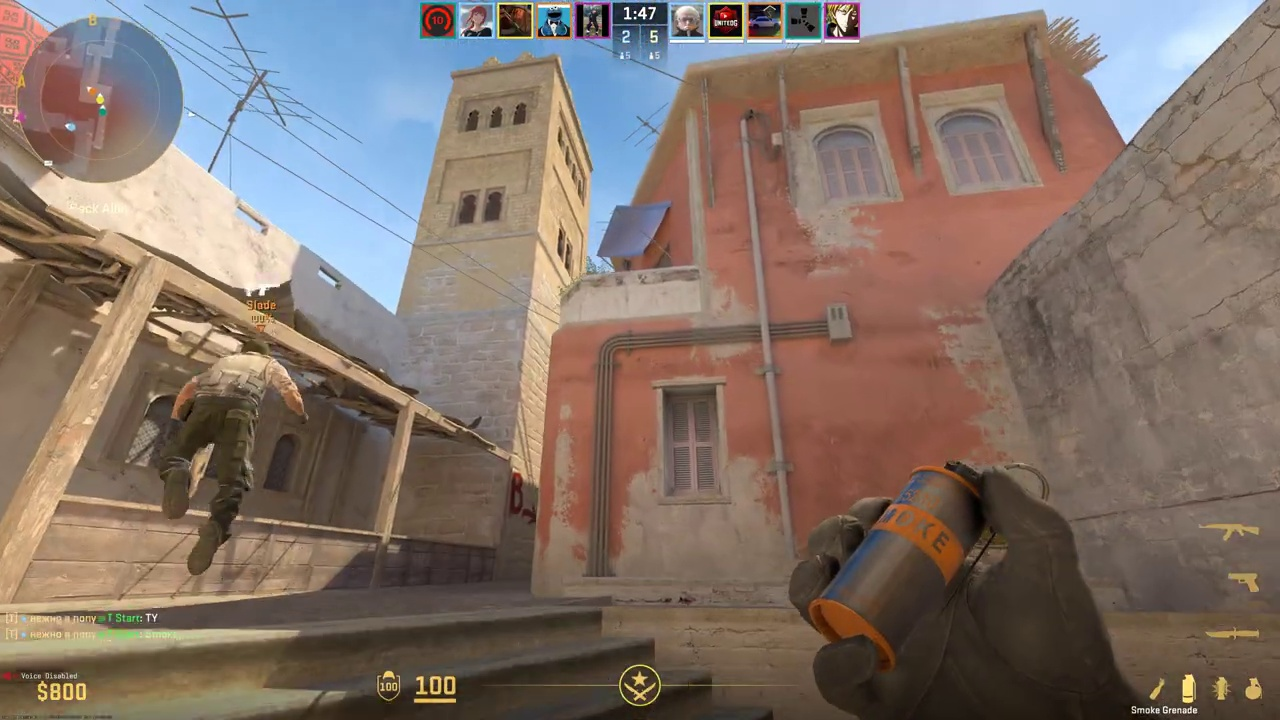Terrorist: (157, 339, 286, 576)
